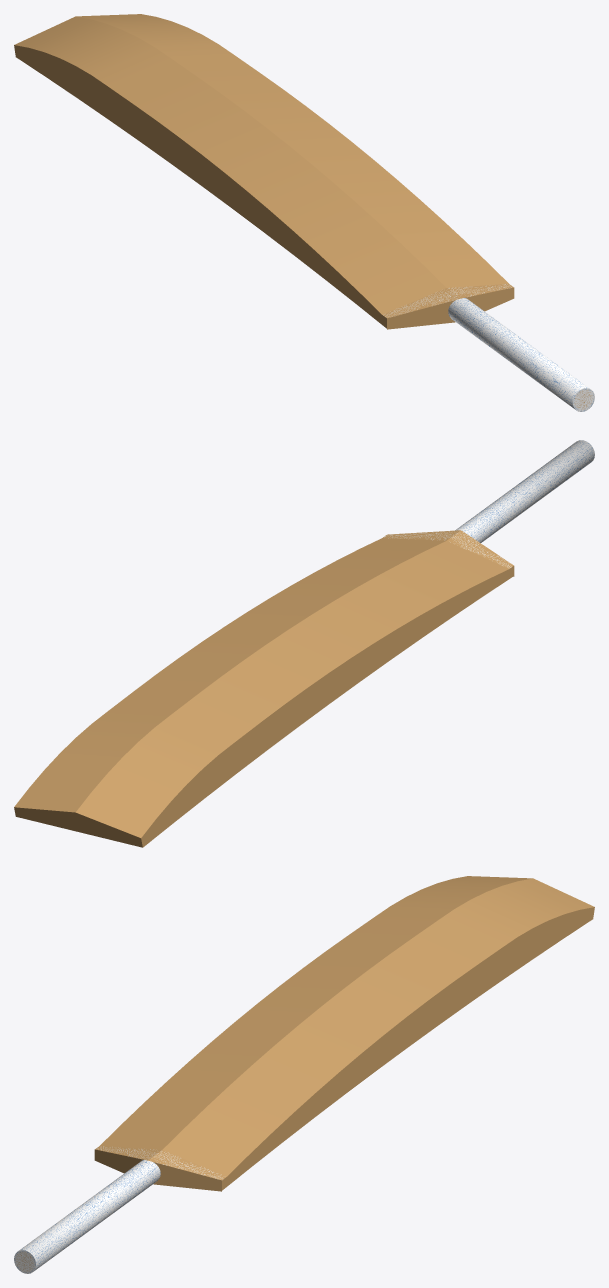
Rendered from cricket_bat.dae.
3 renders of one model, top to bottom at view 1: azimuth 30°, elevation 25°; view 2: azimuth 150°, elevation 25°; view 3: azimuth 330°, elevation 25°, orthographic.
Visible parts, largest first — view 1: SketchUp (×2); view 2: SketchUp (×2); view 3: SketchUp (×2).
Boxes of the visible parts, left/top/right/bottom form: SketchUp (×2): left=14, top=14, right=594, bottom=411; SketchUp (×2): left=14, top=440, right=594, bottom=847; SketchUp (×2): left=14, top=876, right=594, bottom=1273.
Size of the model in its own units: 153 by 1062 by 60.51.
